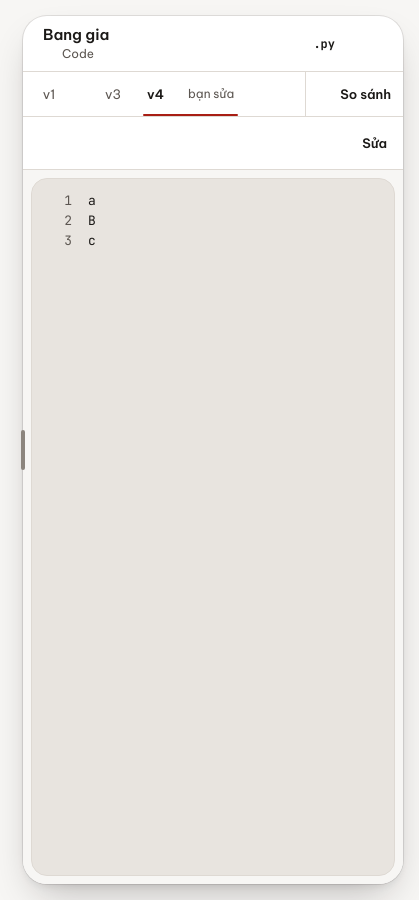
Scenario: so sanh › 4. v3 ↔ v4 trong panel: +/− dung so, dong doi to nen, Xong ⇒ ve tab
Expected: the number of tabs is 3, [27, 72, 71, 116]; [91, 72, 135, 116]; [135, 72, 246, 116]
Click the button "So sánh". click: (354, 94)
box: [305, 72, 403, 116]
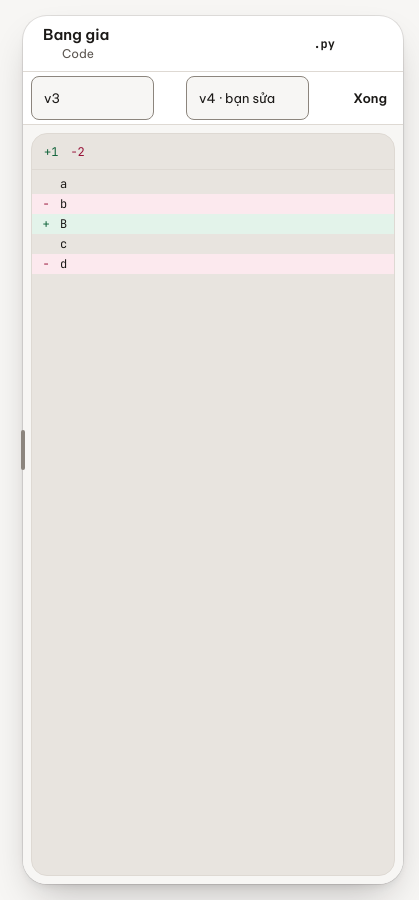
Expected: the 1st dropdown named "Từ phiên bản" shows "v3"
Expected: the 2nd dropdown named "Đến phiên bản" shows "v4 · bạn sửa", [186, 76, 309, 120]
Expected: the element showing "+1" is shown, [44, 142, 58, 160]
Select "v4 · bạn sửa" in the 1st dropdown named "Từ phiên bản". click: (92, 98)
box: [31, 76, 154, 120]
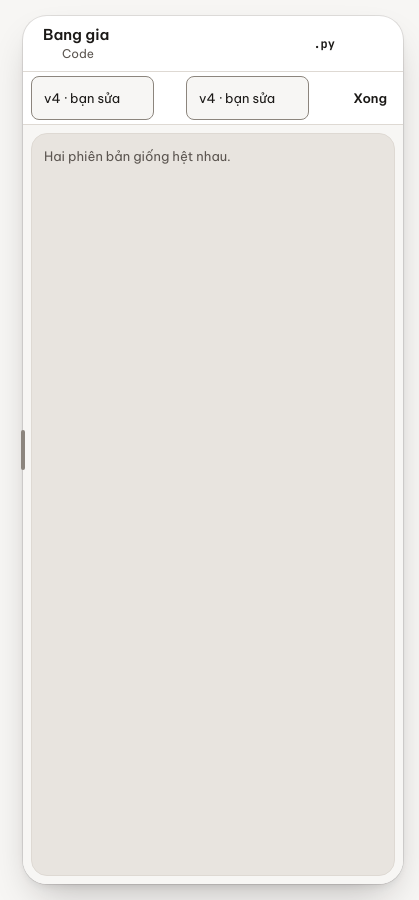
Expected: the text "Hai phiên bản giống hệt nhau." is shown, [44, 148, 231, 164]
Click the button "Xong". click: (370, 98)
box: [341, 76, 399, 120]
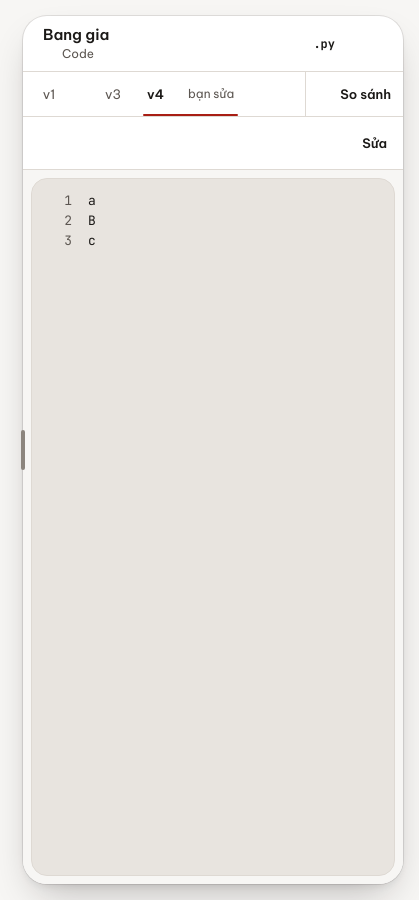
Expected: the tab "v4 bạn sửa" is shown, [135, 72, 246, 116]
